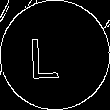L_N: (39, 29, 71, 81)
